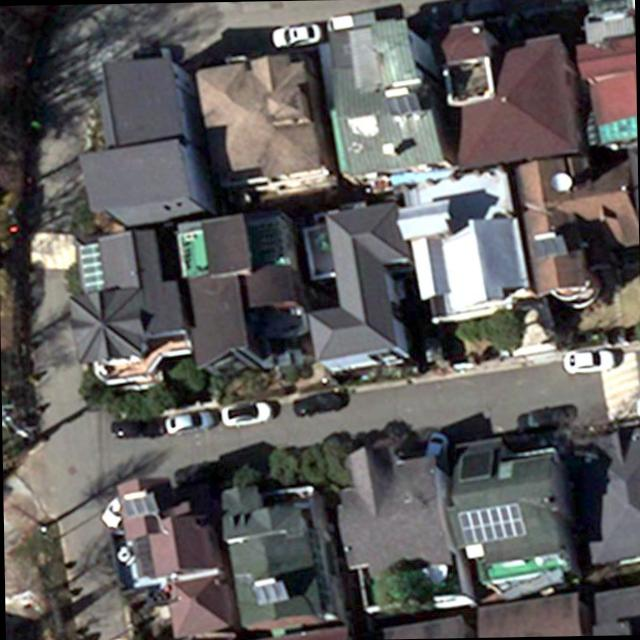solar: (455, 500, 529, 550), (250, 572, 292, 612), (381, 83, 424, 120), (119, 486, 160, 524), (528, 228, 569, 264)
